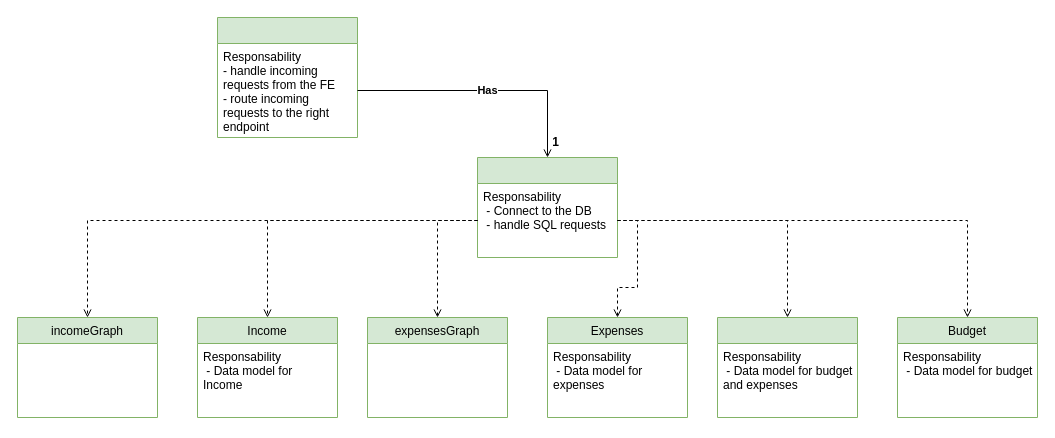
This 1055x438 diagram has some shape labels left out. The box of each missing label's shape, as (x1, y1, x2, y2) in pixels:
BE: (716, 316, 858, 418)
DataSource: (476, 156, 618, 258)
Server: (216, 16, 358, 138)
